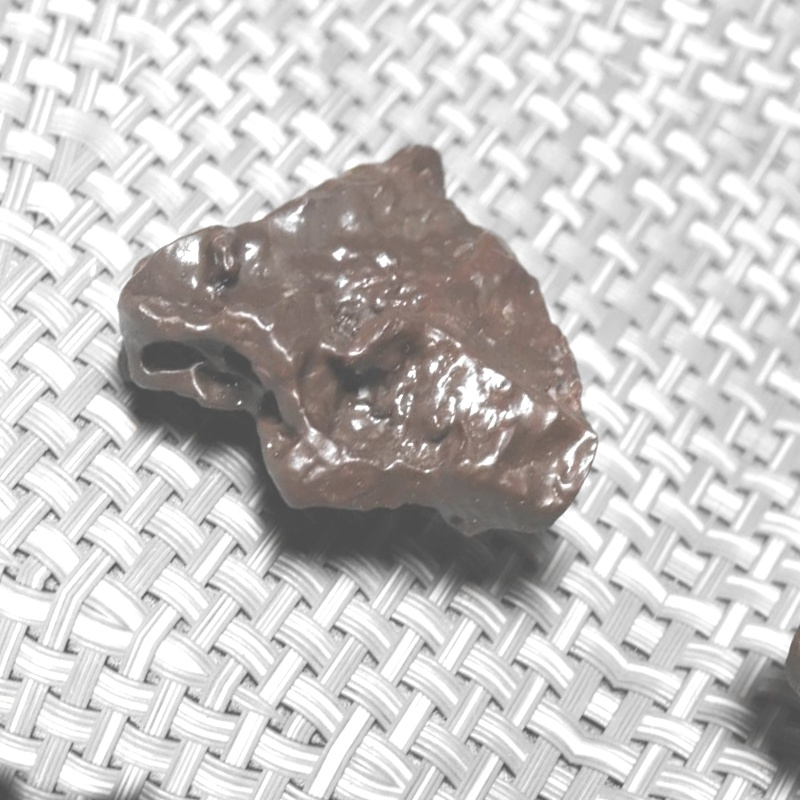halobolite: (52, 36, 705, 646)
